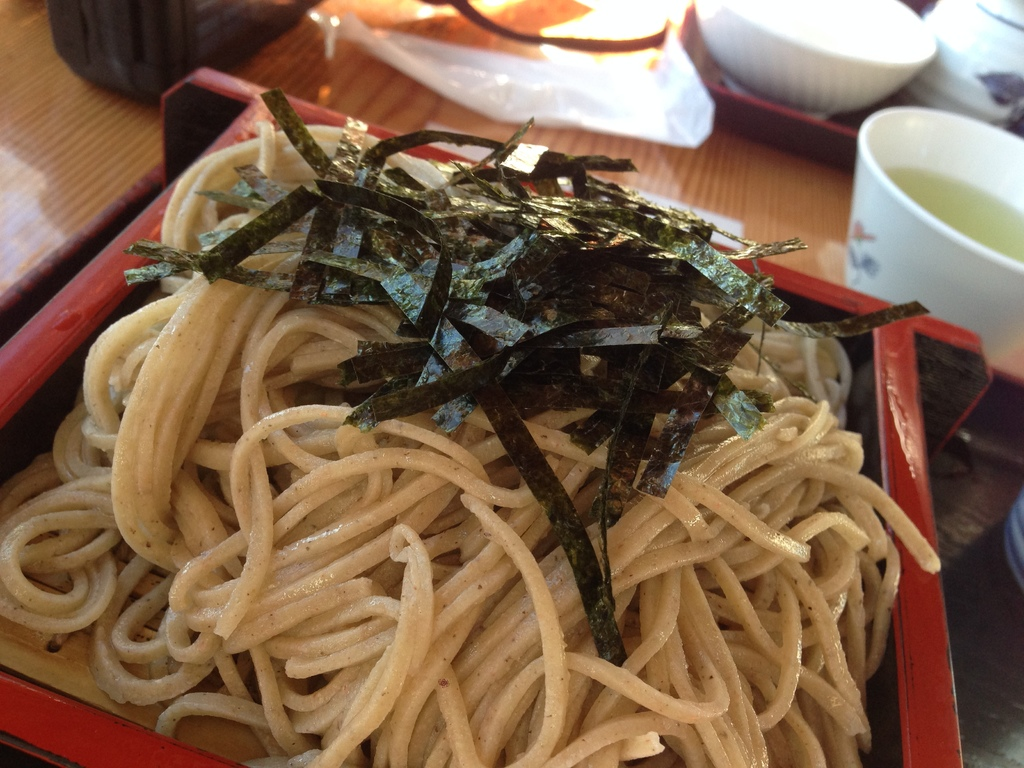pasta: (0, 79, 947, 768)
